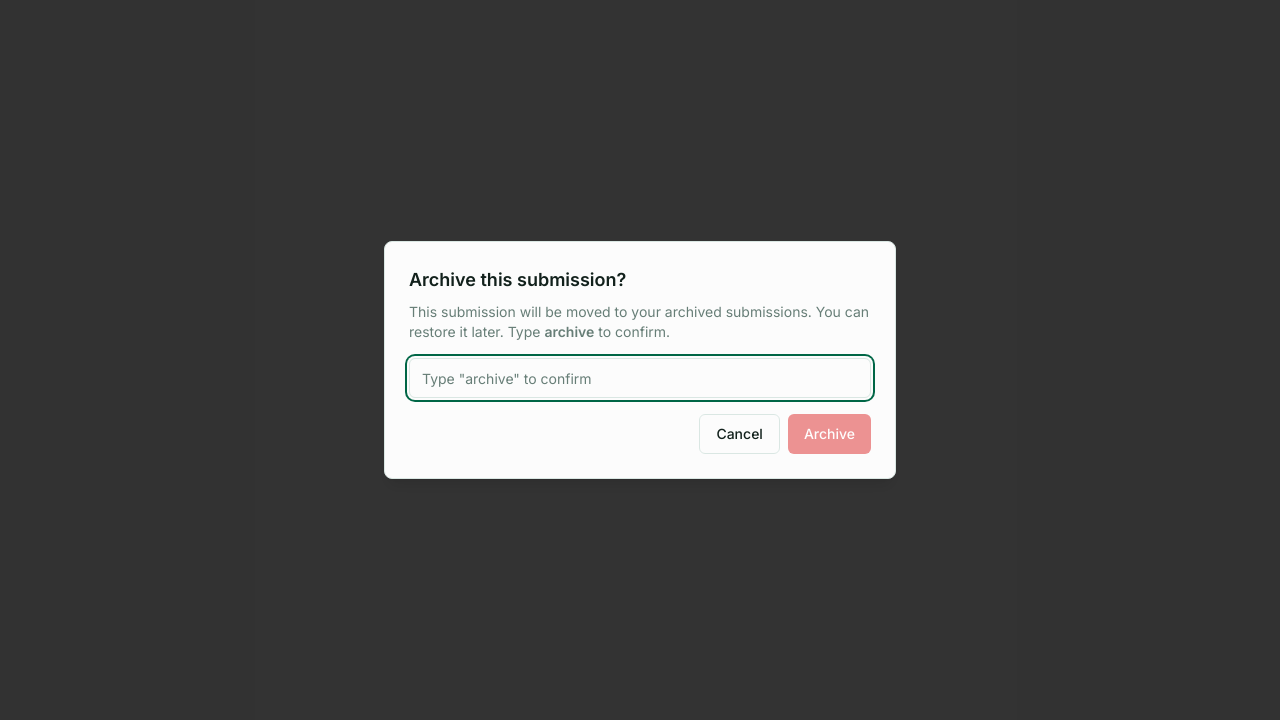
Test: ArchiveConfirmDialog › enables Archive button when input equals "archive"
The image size is (1280, 720).
In the field with placeholder "Type \"archive\" to confirm": (640, 378) [409,358,871,398], type "archive"
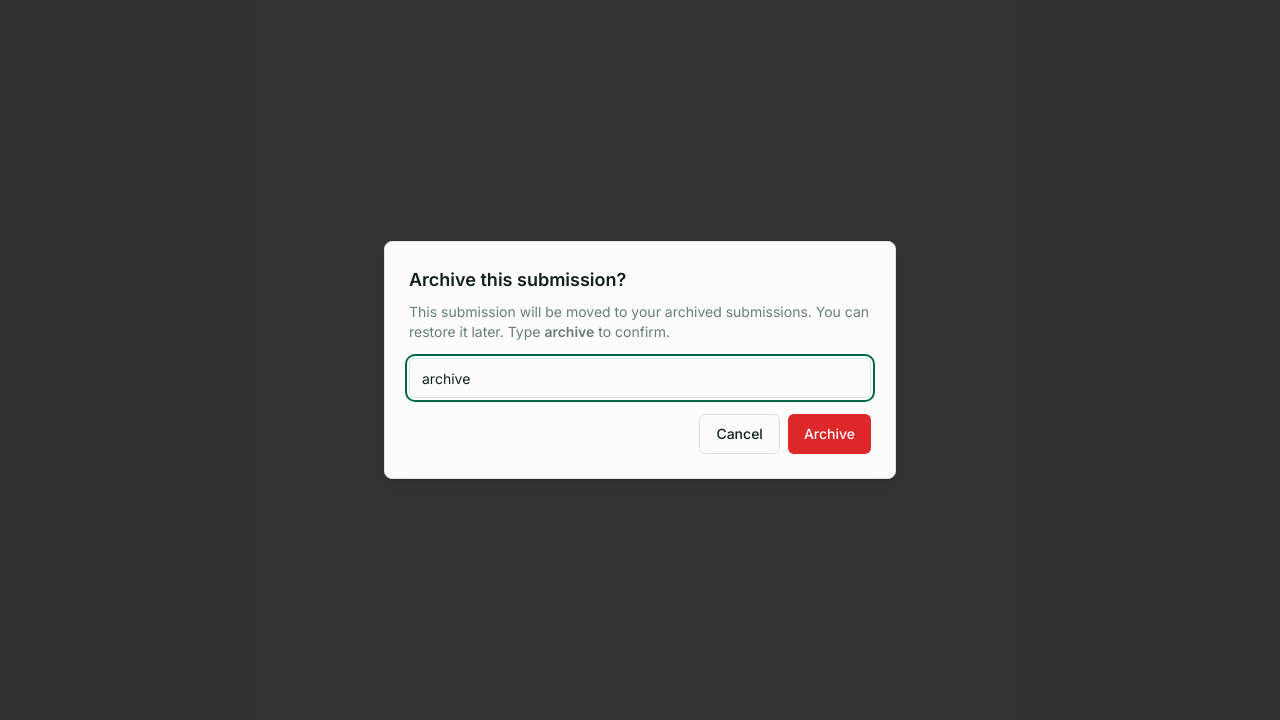
Check: the button "Archive" is enabled, box [788,414,871,454]
